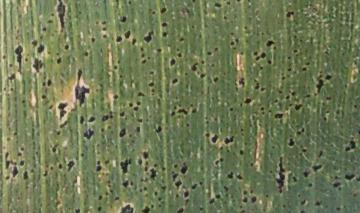tarspot: (72, 67, 90, 106), (274, 154, 288, 195), (54, 1, 68, 34), (12, 43, 24, 73), (56, 100, 70, 122), (119, 157, 133, 179), (31, 56, 44, 75), (80, 126, 96, 141), (117, 201, 137, 213), (314, 77, 325, 96), (3, 151, 12, 173), (141, 29, 154, 43), (344, 139, 356, 153), (223, 134, 236, 146), (176, 106, 189, 118), (65, 159, 76, 173), (286, 134, 295, 151), (11, 161, 19, 180), (210, 132, 220, 147), (94, 159, 103, 175), (311, 163, 324, 174), (58, 119, 69, 131), (168, 56, 177, 70), (344, 172, 356, 182), (118, 15, 130, 25), (253, 77, 260, 94), (179, 163, 188, 176), (118, 127, 127, 140), (36, 43, 45, 56), (123, 28, 132, 41), (51, 142, 60, 155), (149, 167, 157, 181), (265, 38, 276, 48), (173, 177, 183, 188), (274, 111, 284, 122), (332, 181, 343, 191), (110, 92, 121, 102), (120, 179, 130, 190), (293, 101, 302, 113), (174, 204, 186, 213), (237, 74, 246, 86), (190, 61, 198, 74), (322, 45, 330, 58), (285, 9, 295, 19), (159, 6, 168, 17), (214, 157, 225, 166), (154, 124, 162, 136), (243, 95, 252, 105), (141, 204, 151, 213), (87, 115, 96, 125), (101, 113, 110, 123), (117, 110, 127, 119), (296, 126, 306, 135), (280, 71, 289, 81), (142, 150, 150, 161), (22, 169, 30, 180), (78, 114, 86, 125), (136, 155, 143, 167), (55, 56, 64, 65), (136, 90, 145, 99), (171, 76, 179, 86), (182, 189, 190, 199), (250, 195, 258, 205), (236, 172, 244, 182), (226, 170, 234, 180), (212, 74, 220, 84), (316, 149, 324, 159), (134, 125, 142, 135), (258, 105, 266, 115), (115, 34, 122, 45), (6, 73, 15, 81), (62, 42, 70, 51), (199, 72, 207, 81), (314, 199, 322, 208), (237, 148, 245, 157), (46, 77, 52, 89), (79, 151, 88, 159), (300, 66, 309, 74), (161, 30, 168, 40), (15, 151, 25, 158), (154, 46, 164, 53), (42, 168, 49, 178), (127, 100, 135, 108), (222, 184, 230, 192), (321, 115, 329, 123), (96, 194, 104, 202), (300, 147, 308, 155), (135, 117, 143, 125), (73, 206, 82, 213), (260, 51, 267, 60), (299, 198, 306, 207), (302, 169, 309, 178), (90, 36, 97, 45), (100, 26, 109, 33), (39, 25, 48, 32), (57, 162, 64, 171), (290, 89, 297, 98), (239, 127, 245, 137), (161, 21, 169, 28), (20, 159, 27, 167), (96, 205, 103, 213), (214, 2, 222, 9), (292, 175, 299, 183), (208, 197, 215, 205), (259, 86, 267, 93), (132, 105, 139, 113), (82, 50, 89, 58), (100, 19, 108, 26), (159, 184, 167, 191), (140, 58, 147, 66), (140, 53, 148, 60), (112, 64, 119, 72), (55, 130, 63, 137), (47, 104, 55, 111), (142, 185, 150, 192), (156, 202, 164, 209), (307, 180, 313, 189), (171, 172, 180, 178), (191, 181, 197, 190), (204, 131, 210, 140), (174, 191, 180, 200), (99, 134, 108, 140), (40, 93, 47, 100), (101, 33, 108, 40), (94, 19, 101, 26), (46, 18, 53, 25), (242, 189, 249, 196), (172, 162, 179, 169), (292, 47, 299, 54), (334, 205, 341, 212), (103, 158, 110, 165), (20, 97, 27, 104), (277, 88, 284, 95), (99, 126, 106, 133), (31, 39, 37, 47), (131, 38, 137, 46), (4, 174, 10, 182), (41, 80, 47, 88), (148, 80, 154, 88), (8, 61, 14, 69), (242, 196, 248, 204), (212, 46, 220, 52), (5, 136, 13, 142), (205, 51, 214, 56), (191, 107, 198, 113), (200, 59, 206, 66), (255, 55, 261, 62), (252, 50, 259, 56), (325, 74, 332, 80), (49, 11, 55, 18), (37, 34, 44, 40), (152, 190, 159, 196), (228, 106, 235, 112), (139, 46, 145, 53), (150, 9, 157, 15), (178, 36, 185, 42), (176, 52, 183, 58), (174, 46, 181, 52), (238, 49, 245, 55), (229, 40, 235, 47), (249, 161, 255, 168), (285, 94, 291, 101), (304, 93, 311, 99), (352, 103, 359, 109), (325, 95, 332, 101), (184, 122, 191, 128), (148, 69, 155, 75), (9, 86, 15, 93), (2, 86, 8, 93), (266, 59, 273, 65), (287, 101, 293, 108), (269, 143, 276, 149), (258, 65, 264, 72), (139, 187, 145, 194), (155, 195, 162, 201), (143, 161, 150, 167), (234, 37, 239, 45), (249, 187, 254, 195), (215, 193, 221, 199), (135, 100, 141, 106), (1, 53, 7, 59), (23, 57, 29, 63), (114, 195, 120, 201), (198, 181, 204, 187), (19, 145, 25, 151), (222, 14, 228, 20), (243, 25, 249, 31), (272, 98, 278, 104), (286, 55, 292, 61), (130, 147, 136, 153), (170, 110, 175, 117), (199, 205, 204, 212), (286, 67, 293, 72), (281, 202, 286, 209), (351, 192, 358, 197), (116, 58, 121, 65), (12, 131, 19, 136), (210, 62, 215, 69), (172, 105, 180, 109), (238, 209, 246, 213), (298, 209, 306, 213), (356, 175, 360, 183), (129, 180, 134, 186), (161, 166, 166, 172), (264, 193, 269, 199), (357, 127, 360, 137), (118, 73, 123, 79), (106, 125, 112, 130), (143, 166, 148, 172), (229, 31, 234, 37), (225, 1, 232, 5), (190, 1, 197, 5), (234, 1, 243, 4), (242, 141, 247, 146), (130, 139, 135, 144), (190, 24, 195, 29), (151, 203, 155, 209), (153, 162, 157, 168), (127, 1, 133, 5), (128, 133, 132, 138)
